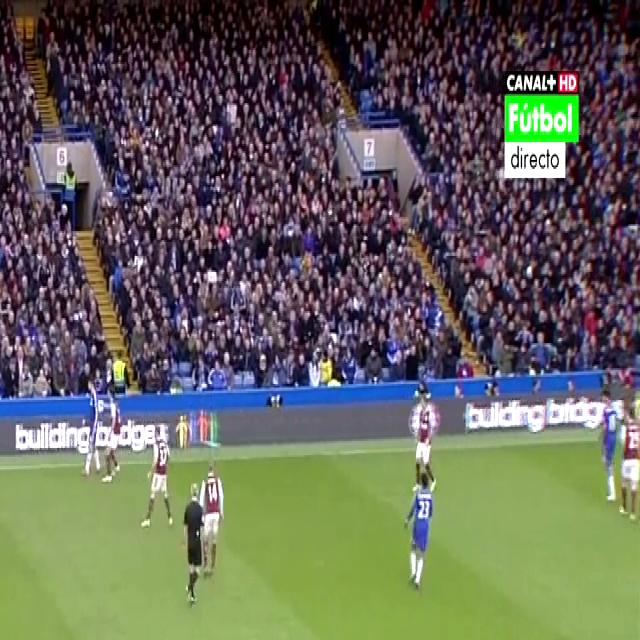referee: (179, 472, 211, 607)
soccer-player: (400, 467, 434, 597), (143, 418, 179, 535), (596, 390, 628, 520), (83, 378, 115, 488), (201, 452, 226, 592), (409, 385, 438, 498)
